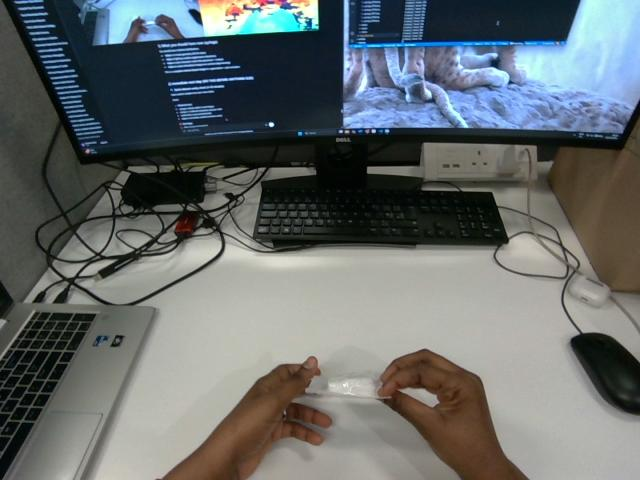gauze: (306, 372, 387, 398)
